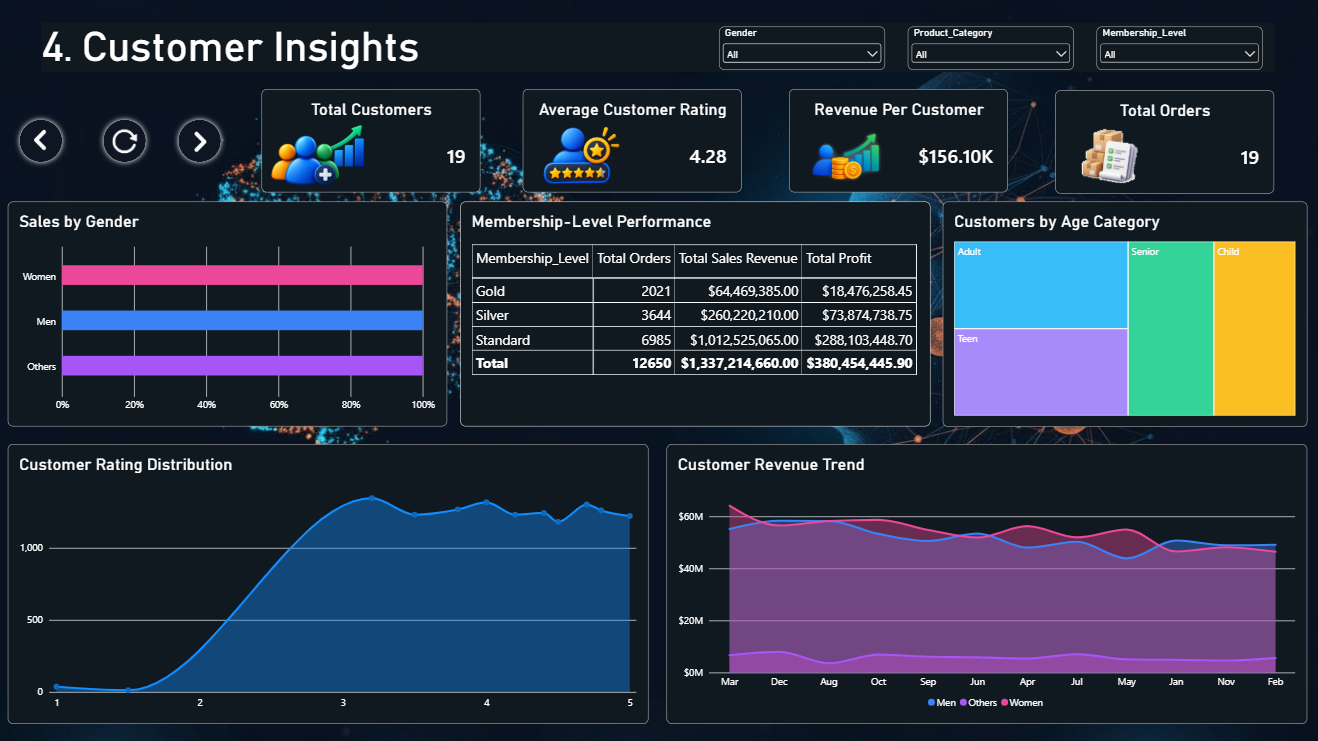

The page's visual inventory and layout, read from the dashboard file:
{"tool":"powerbi","page":{"name":"Customer Insights","canvas":[1920,1080],"ordinal":3},"visuals":[{"type":"shape","box":[61.5,34.4,1793.3,71.7],"z":0},{"type":"textbox","title":"4. Customer Insights","box":[61.8,34.5,569.1,70.9],"z":1000},{"type":"kpi","title":"Revenue Per Customer","fields":{"Indicator":["Customer analysis measures.Revenue per Customer"],"TrendLine":["Calendar.Date"]},"box":[1149.1,130.3,318.5,150.2],"z":2000},{"type":"kpi","title":"Total Orders","fields":{"Indicator":["Sales and revenue measures.Total Orders"],"TrendLine":["Calendar.Date"]},"box":[1536.4,132.1,318.5,150.2],"z":3000},{"type":"kpi","title":"Average Customer Rating","fields":{"Indicator":["Customer analysis measures.Average Customer Rating"],"TrendLine":["Calendar.Date"]},"box":[761.9,130.3,318.5,150.2],"z":4000},{"type":"kpi","title":"Total Customers","fields":{"Indicator":["Customer analysis measures.Total Customers"],"TrendLine":["Calendar.Date"]},"box":[381.8,130.3,318.5,150.2],"z":5000},{"type":"slicer","fields":{"Values":["Project.Membership_Level"]},"box":[1596.1,39.8,241.7,63.3],"z":6000},{"type":"slicer","fields":{"Values":["Project.Product_Category"]},"box":[1321.1,39.8,241.7,63.3],"z":7000},{"type":"slicer","fields":{"Values":["Project.Gender"]},"box":[1047.8,39.8,241.7,63.3],"z":8000},{"type":"treemap","title":"Customers by Age Category","fields":{"Group":["Project.Age_Category"],"Values":["Customer analysis measures.Total Customers"]},"box":[1373.5,295,530,328],"z":9000},{"type":"hundredPercentStackedBarChart","title":"Sales by Gender","fields":{"Category":["Project.Gender"],"Y":["Sales and revenue measures.Total Sales Revenue"]},"box":[12.7,295,638.8,327.5],"z":10000},{"type":"lineChart","title":"Customer Rating Distribution","fields":{"Category":["Project.Customer_Rating"],"Y":["CountNonNull(Project.Order_ID)"]},"box":[12.7,647.9,932,407.2],"z":11000},{"type":"areaChart","title":"Customer Revenue Trend","fields":{"Category":["Calendar.Month"],"Series":["Project.Gender"],"Y":["Sales and revenue measures.Total Sales Revenue"]},"box":[971.8,647.9,932,407.2],"z":12000},{"type":"pivotTable","title":"Membership-Level Performance","fields":{"Rows":["Project.Membership_Level"],"Values":["Sales and revenue measures.Total Orders","Sales and revenue measures.Total Sales Revenue","Sales and revenue measures.Total Profit"]},"box":[671.4,295,684.1,327.5],"z":13000},{"type":"group","id":"g1","title":"Group 1","box":[14.5,159.3,92.7,92.7],"z":14000},{"type":"shape","box":[253.3,166.5,78.2,78.2],"z":14000,"group":"g3"},{"type":"group","id":"g2","title":"Group 2","box":[143,166.5,78.2,78.2],"z":15000},{"type":"shape","box":[143,166.5,78.2,78.2],"z":15000,"group":"g2"},{"type":"group","id":"g3","title":"Group 3","box":[246.1,159.3,92.7,92.7],"z":16000},{"type":"shape","box":[21.7,166.5,78.2,78.2],"z":16000,"group":"g1"},{"type":"image","box":[1536,172,159.3,110.4],"z":17000},{"type":"image","box":[155.7,177.4,52.7,58.2],"z":17000,"group":"g2"},{"type":"image","box":[246.1,159.3,92.7,92.7],"z":18000,"group":"g3"},{"type":"image","box":[382,172,159.3,110.4],"z":18000},{"type":"image","box":[14.5,159.3,92.7,92.7],"z":19000,"group":"g1"},{"type":"image","box":[762,172,159.3,110.4],"z":19000},{"type":"image","box":[1150,172,159.3,110.4],"z":20000}]}

Visuals, with their boxes in screenshot pixels (x1, y1, x2, y2), scaled from the page's 1920x1080 canvas onto the 1318x741 screenshot:
shape: (42,24,1273,73)
"4. Customer Insights" textbox: (42,24,433,72)
"Revenue Per Customer" kpi: (789,89,1007,192)
"Total Orders" kpi: (1055,91,1273,194)
"Average Customer Rating" kpi: (523,89,742,192)
"Total Customers" kpi: (262,89,481,192)
slicer - Project.Membership_Level: (1096,27,1262,71)
slicer - Project.Product_Category: (907,27,1073,71)
slicer - Project.Gender: (719,27,885,71)
"Customers by Age Category" treemap: (943,202,1307,427)
"Sales by Gender" hundredPercentStackedBarChart: (9,202,447,427)
"Customer Rating Distribution" lineChart: (9,445,648,724)
"Customer Revenue Trend" areaChart: (667,445,1307,724)
"Membership-Level Performance" pivotTable: (461,202,930,427)
"Group 1" group: (10,109,74,173)
shape: (174,114,228,168)
"Group 2" group: (98,114,152,168)
shape: (98,114,152,168)
"Group 3" group: (169,109,233,173)
shape: (15,114,69,168)
image: (1054,118,1164,194)
image: (107,122,143,162)
image: (169,109,233,173)
image: (262,118,372,194)
image: (10,109,74,173)
image: (523,118,632,194)
image: (789,118,899,194)
